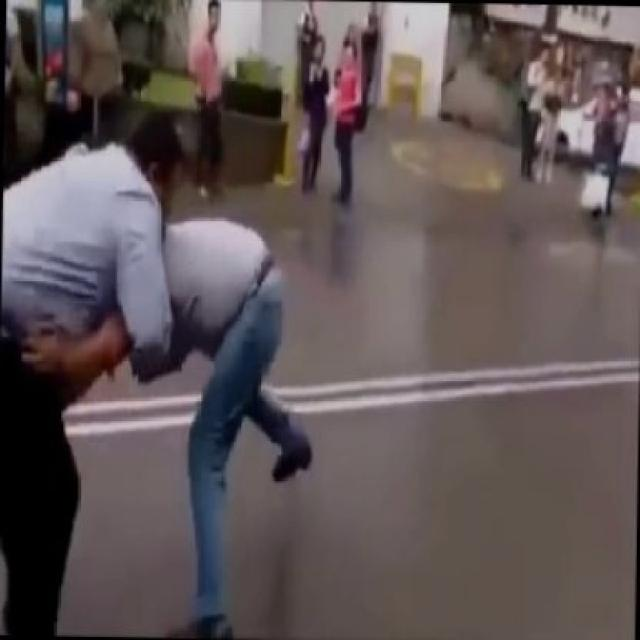fight: (0, 96, 320, 638)
